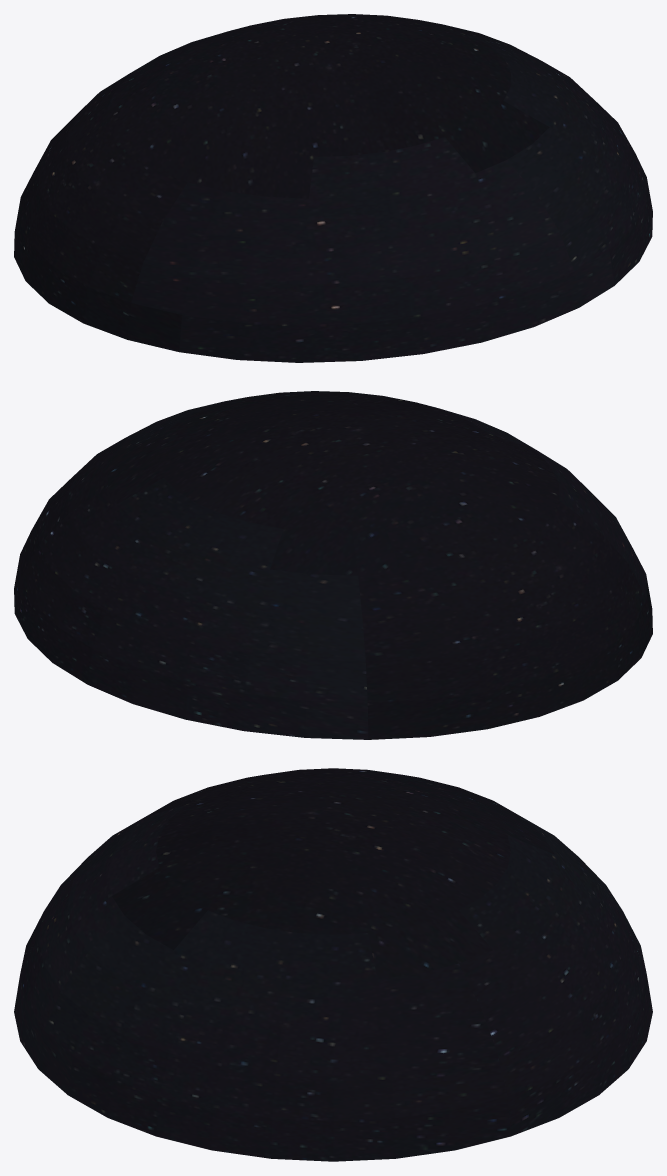
File: laberinto5.glb
The picture shows the model from 3 angles, top to bottom: view 1: azimuth 30°, elevation 25°; view 2: azimuth 150°, elevation 25°; view 3: azimuth 270°, elevation 25°; orthographic projection. The views are drawn at different scales.
Visible parts, largest first — view 1: Esfera; view 2: Esfera; view 3: Esfera.
Part boxes in pixels (x1,y1,x2,y2): Esfera: (14,14,652,362); Esfera: (14,391,652,739); Esfera: (14,768,652,1161).
Size of the model in its own units: 126 by 38.54 by 114.
Materials: 9 (1 with a texture image).
